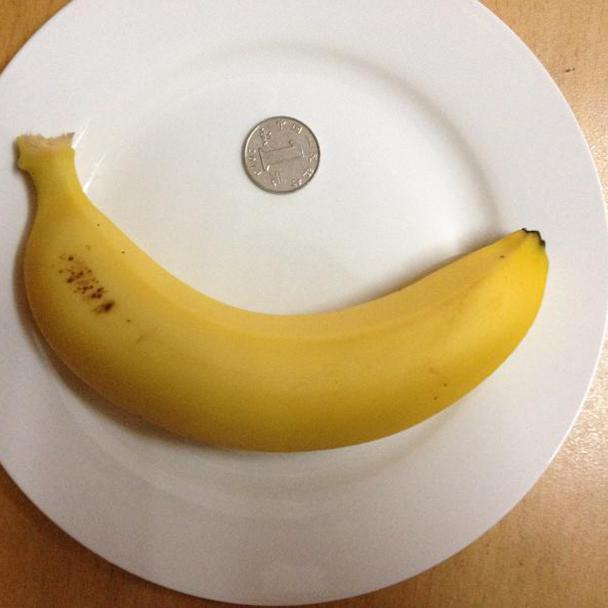banana: (11, 128, 560, 457)
